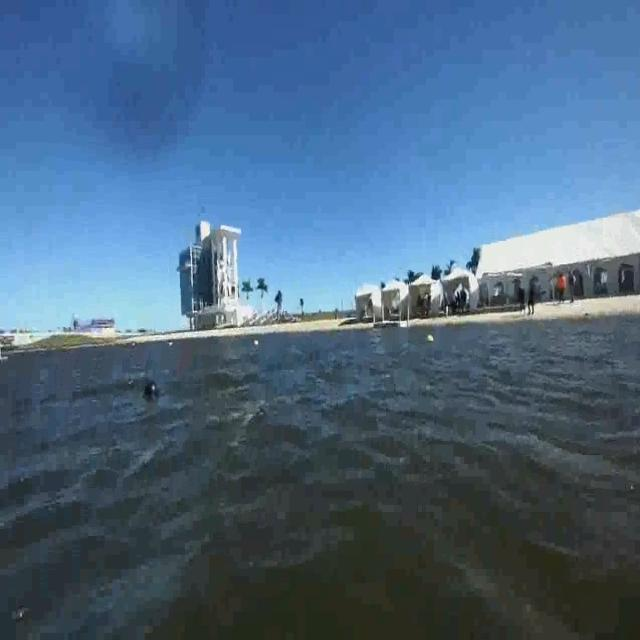black-buoy: (142, 373, 159, 404)
